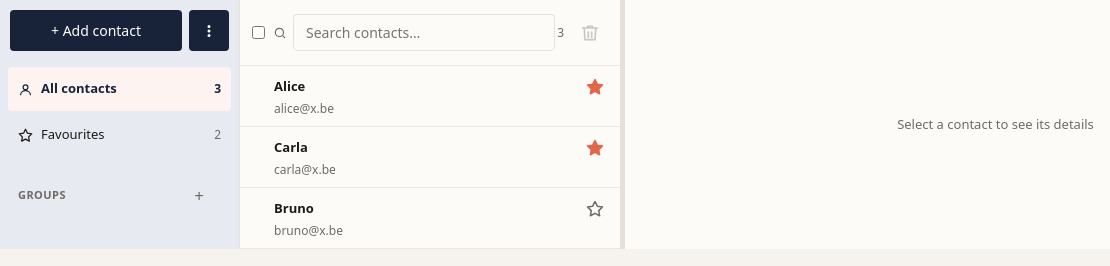
Test case: ContactsLayout › narrows the list to favourites when that scope is picked
Expected: the text "Alice" is shown, [274,77,305,95]
Click the button "Favourites 2" at (120, 135), box [8,113,231,157]
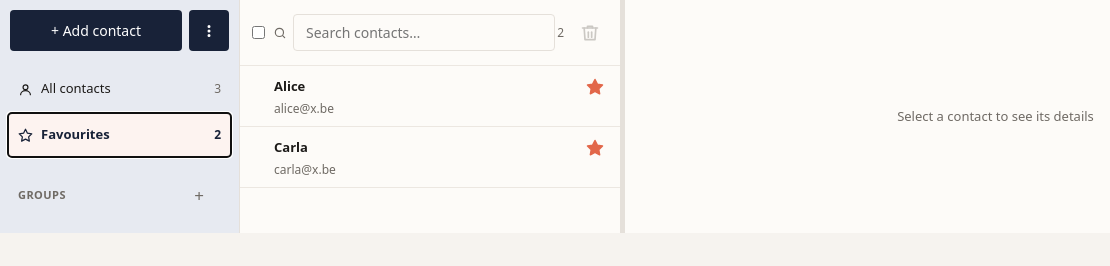
Expected: the text "Alice" is shown, [274,77,305,95]
Result: the text "Bruno" is gone
